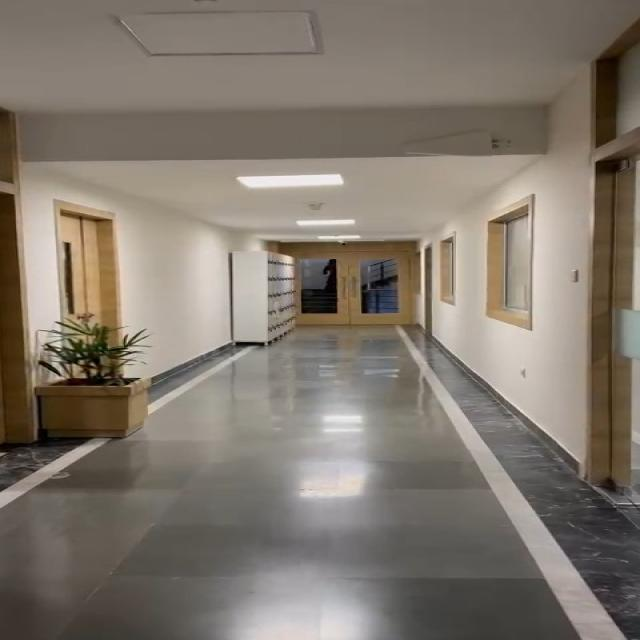door: (547, 47, 640, 504), (0, 118, 140, 360), (243, 216, 475, 330)
floor: (243, 341, 528, 640)
furniture: (19, 325, 172, 439)
